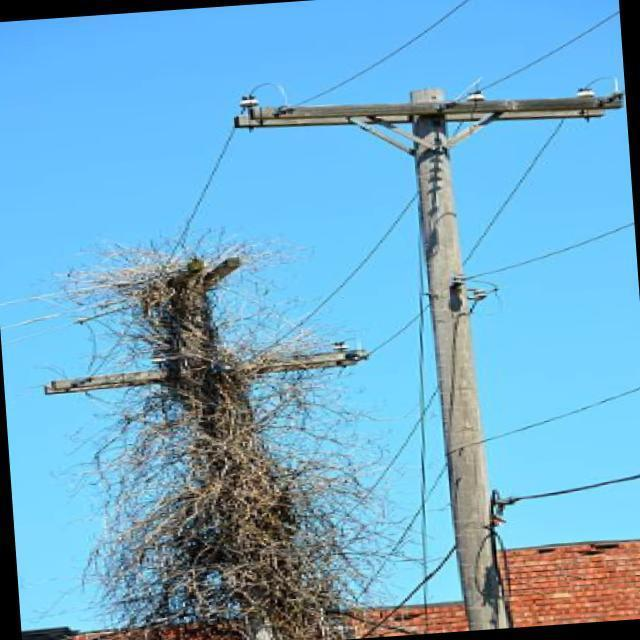critical vegetation: (96, 221, 343, 640)
